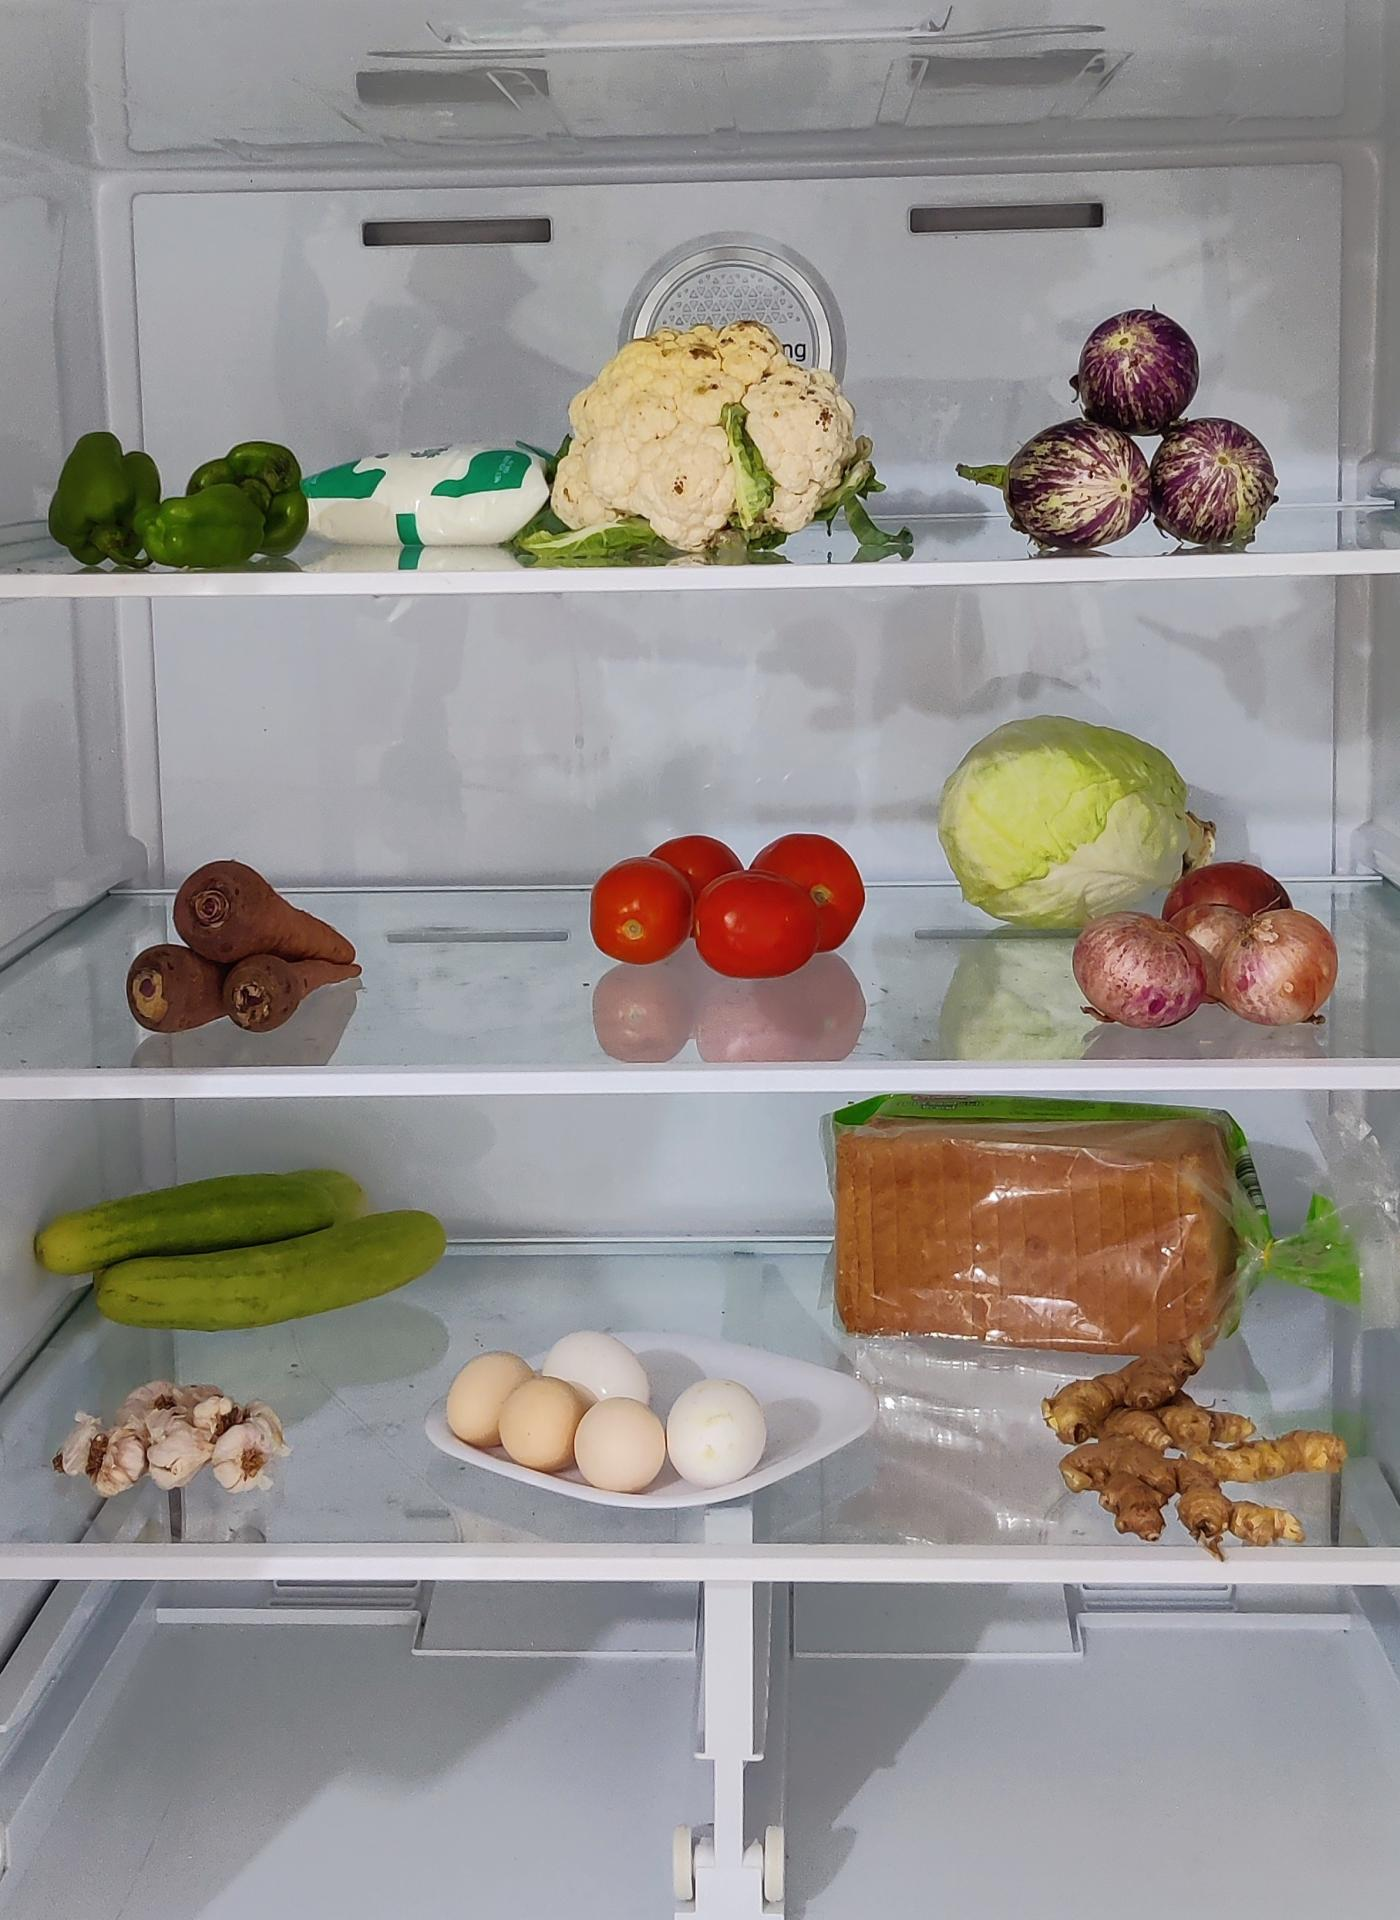bread: (830, 1100, 1273, 1362)
brinjal: (1000, 301, 1260, 543)
cabbage: (959, 720, 1187, 921)
capsicum: (46, 437, 312, 581)
carrots: (118, 853, 359, 1040)
cauliflower: (550, 326, 875, 552)
cucumber: (43, 1166, 450, 1336)
egg: (458, 1322, 784, 1494)
garlic: (55, 1379, 288, 1498)
ginger: (1045, 1391, 1343, 1547)
milk: (294, 434, 556, 550)
onion: (1069, 856, 1339, 1023)
tomato: (593, 824, 872, 969)
